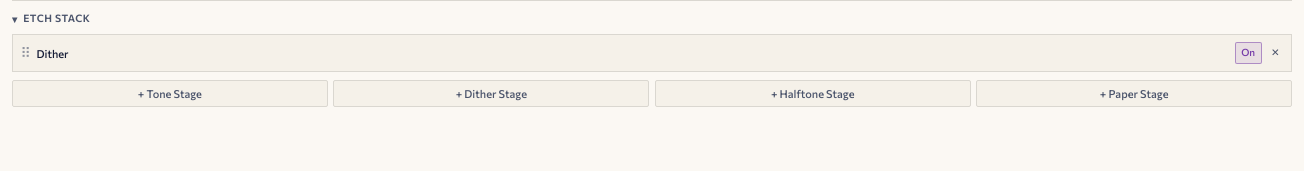
Scenario: EtchStackRack › the Dither body exposes a mode selector (FS + Bayer 2/4/8) and a size slider
Click the button with test id "etch-stage-expand" at (52, 53), box x1=36 y1=44 x2=1229 y2=62
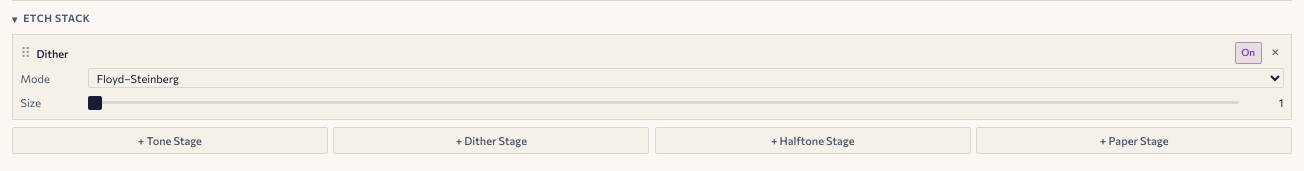
Check: the slider with test id "dither-size" is shown, box x1=88 y1=101 x2=1238 y2=104
